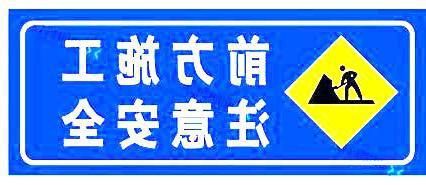sign: (17, 17, 419, 170)
